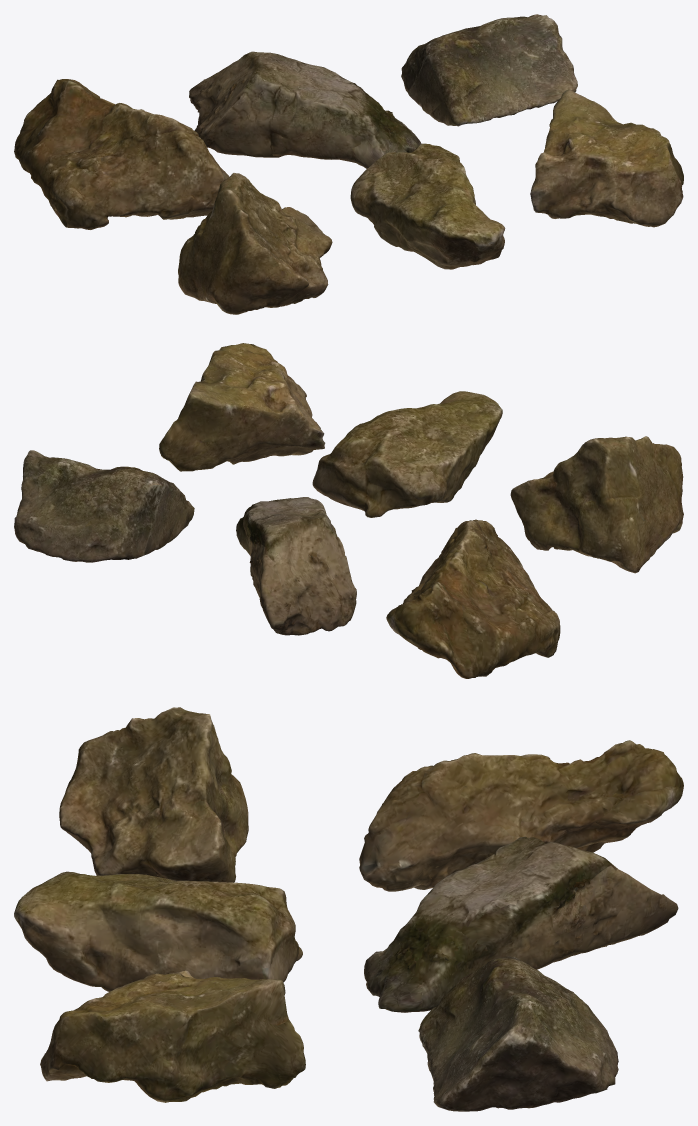
The model's file is rock_moss_set_01.glb.
3 renders of one model, top to bottom at view 1: azimuth 30°, elevation 25°; view 2: azimuth 150°, elevation 25°; view 3: azimuth 270°, elevation 25°, orthographic. The views are drawn at different scales.
Visible parts, largest first — view 1: rock_moss_set_01_rock01, rock_moss_set_01_rock02, rock_moss_set_01_rock06, rock_moss_set_01_rock04, rock_moss_set_01_rock03, rock_moss_set_01_rock05; view 2: rock_moss_set_01_rock04, rock_moss_set_01_rock01, rock_moss_set_01_rock05, rock_moss_set_01_rock03, rock_moss_set_01_rock06, rock_moss_set_01_rock02; view 3: rock_moss_set_01_rock01, rock_moss_set_01_rock02, rock_moss_set_01_rock05, rock_moss_set_01_rock06, rock_moss_set_01_rock04, rock_moss_set_01_rock03.
Boxes of the visible parts, x1,y1,x2,y2 form: rock_moss_set_01_rock01: (14,79,229,229); rock_moss_set_01_rock02: (189,51,421,168); rock_moss_set_01_rock06: (530,89,683,227); rock_moss_set_01_rock04: (178,173,332,314); rock_moss_set_01_rock03: (401,14,577,126); rock_moss_set_01_rock05: (350,143,505,269); rock_moss_set_01_rock04: (510,436,683,573); rock_moss_set_01_rock01: (386,519,560,678); rock_moss_set_01_rock05: (312,391,502,517); rock_moss_set_01_rock03: (14,450,194,562); rock_moss_set_01_rock06: (159,343,325,471); rock_moss_set_01_rock02: (236,497,356,635); rock_moss_set_01_rock01: (359,740,683,891); rock_moss_set_01_rock02: (364,836,678,1012); rock_moss_set_01_rock05: (14,871,302,991); rock_moss_set_01_rock06: (40,970,305,1102); rock_moss_set_01_rock04: (59,707,248,882); rock_moss_set_01_rock03: (418,956,618,1111).
Size of the model in its own units: 8 by 1.77 by 6.95.
1 material, 1 textured.
